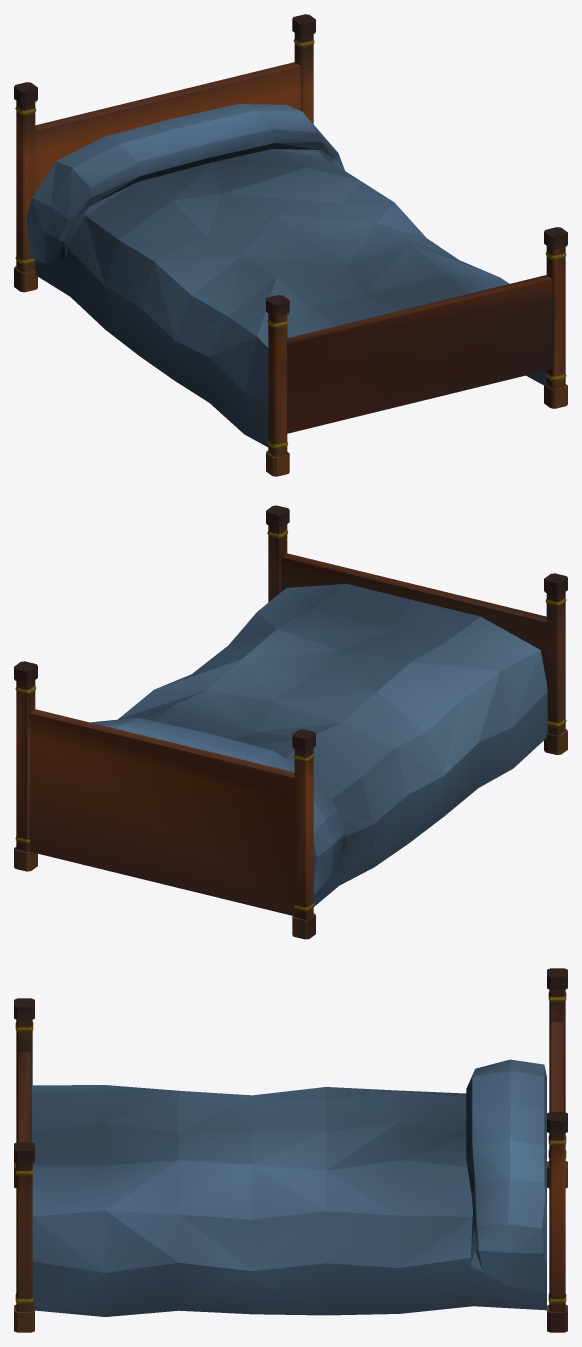
The model's file is Furniture_BedA.fbx.
The picture shows the model from 3 angles, top to bottom: view 1: azimuth 30°, elevation 25°; view 2: azimuth 150°, elevation 25°; view 3: azimuth 270°, elevation 25°; orthographic projection. The views are drawn at different scales.
Parts seen in each view (by area): view 1: Furniture_BedA; view 2: Furniture_BedA; view 3: Furniture_BedA.
Boxes of the visible parts, x1,y1,x2,y2 form: Furniture_BedA: (14,14,567,476); Furniture_BedA: (14,505,567,939); Furniture_BedA: (14,968,567,1332).
Bounding box in the file's own units: 175 × 113 × 269.
